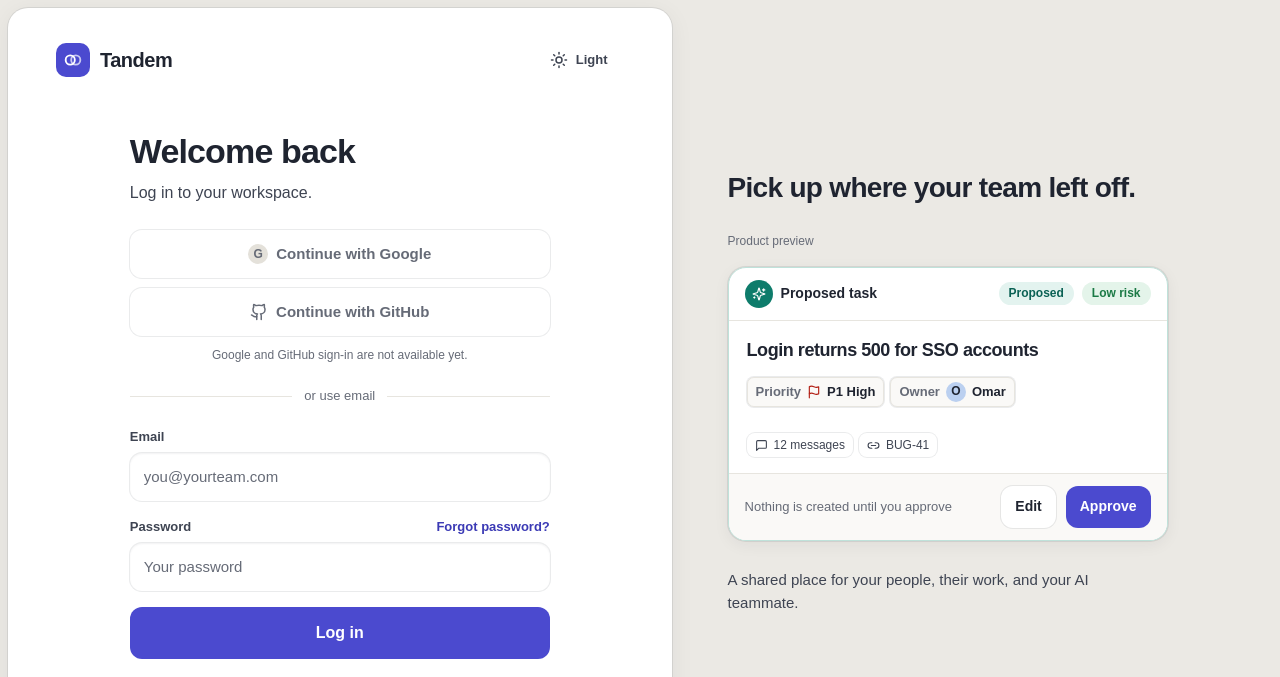
it: connected authentication screens › shows login failures and keeps the user on the login page
In the field named "Email address": (340, 477) [130,453,550,501], type "alex@example.com"
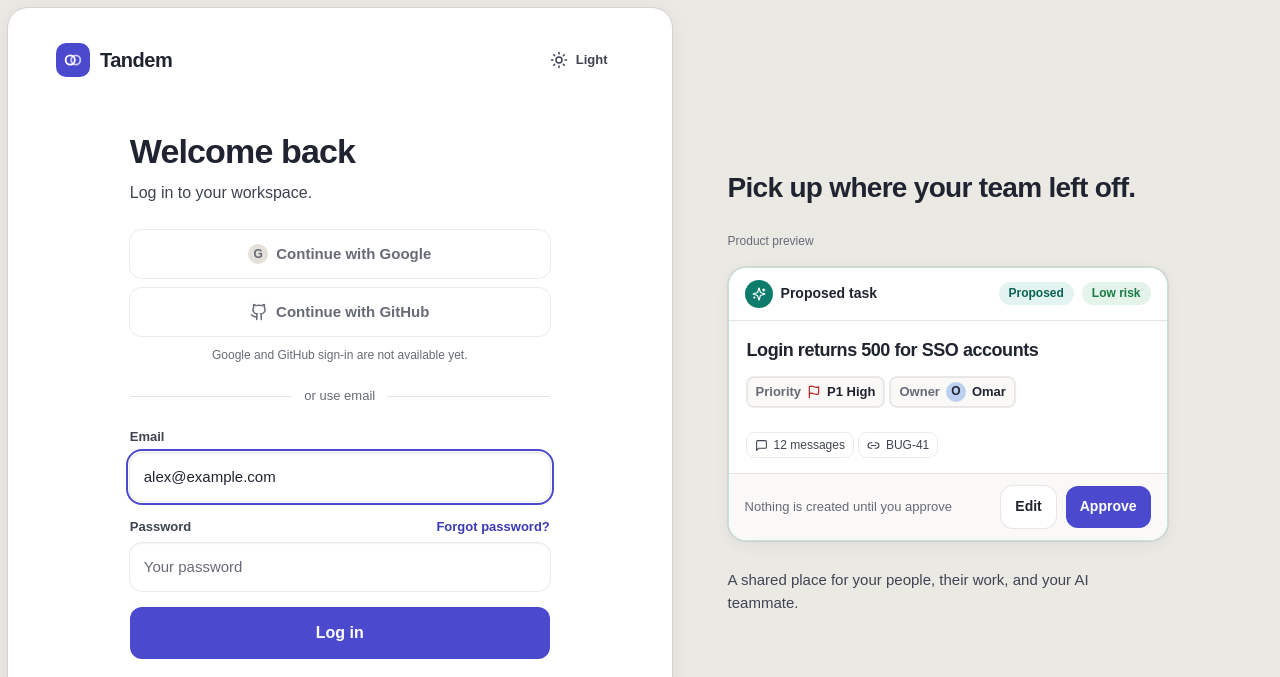
In the password field labelled "Password": (340, 567) [130,543,550,591], type "wrong"
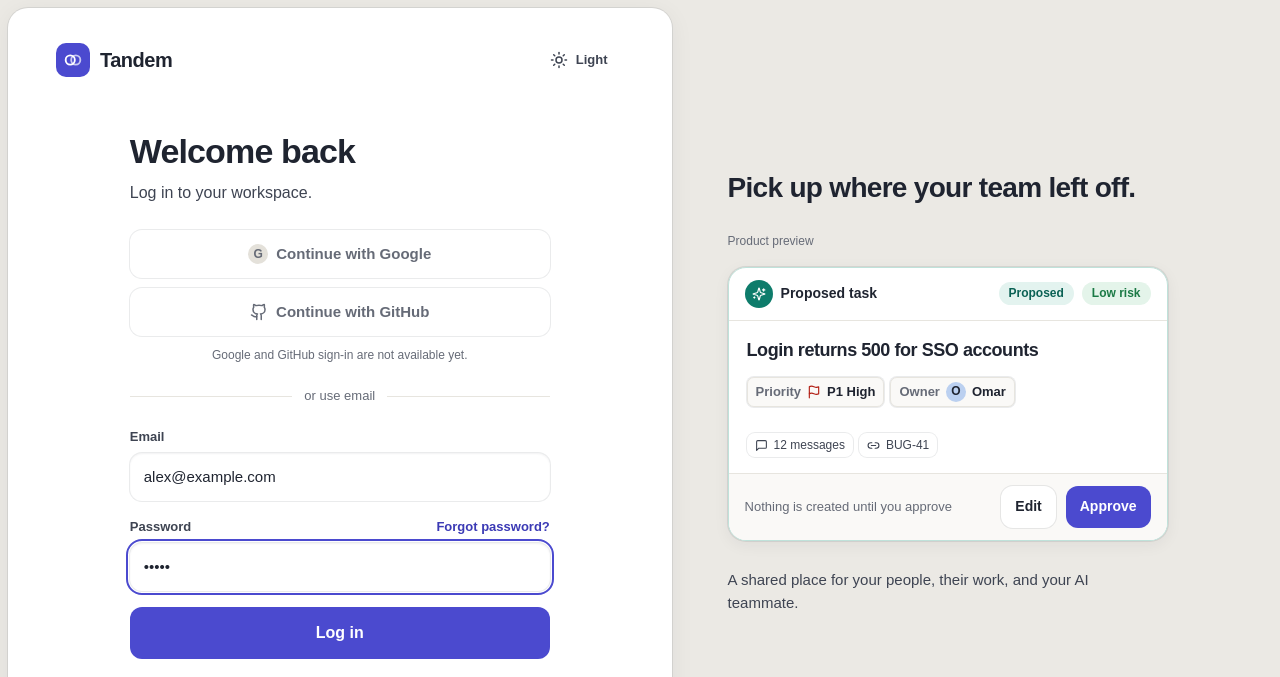
Click the button "Log in": (340, 633) [130,607,550,659]
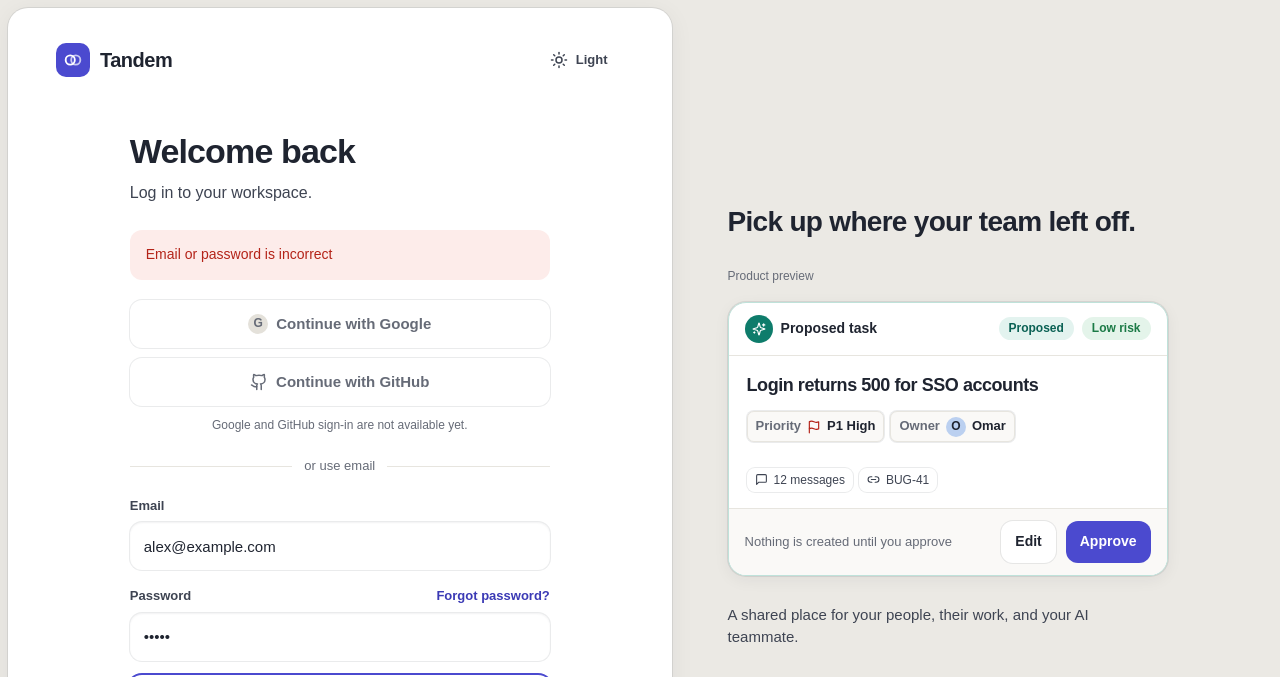
Result: the message reads "Email or password is incorrect" at [146,246,332,262]
